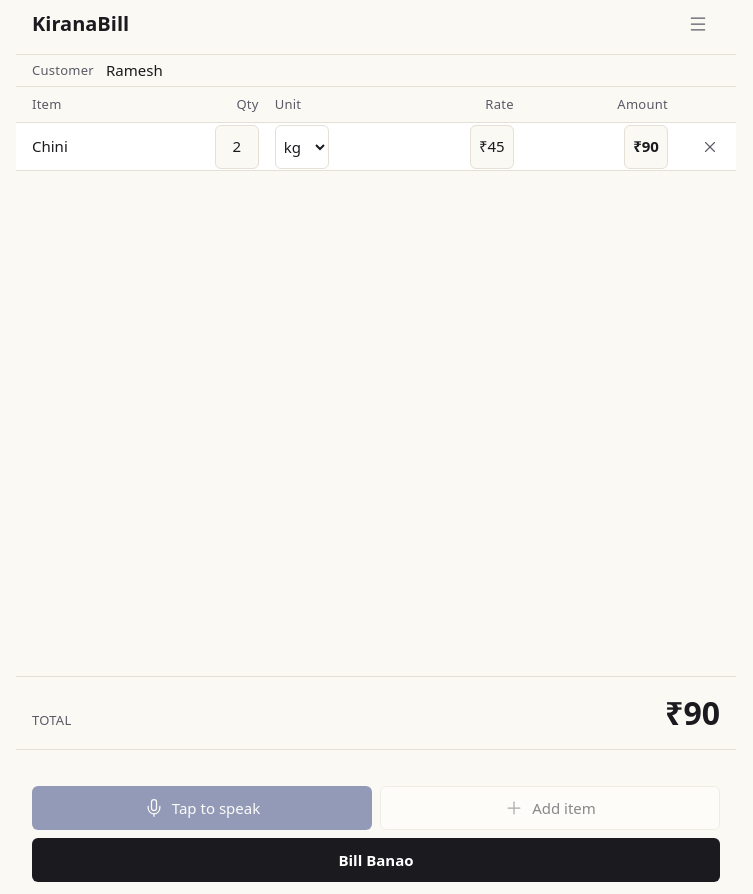
it: KB-309 - four buttons on the saved screen (D58, the legacy behaviour) › Image, PDF, WhatsApp, SMS; the PNG and PDF rendered once, when the receipt is shown
Click the button "Bill Banao" at (376, 860), box left=32, top=838, right=720, bottom=882
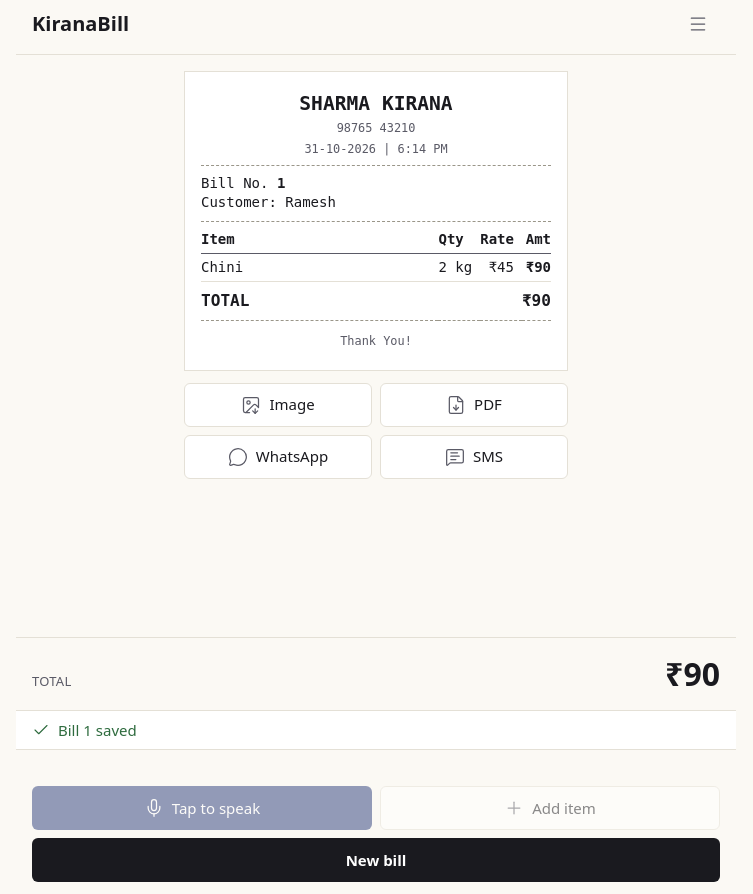
Expected: the element named "Receipt" is shown, left=184, top=71, right=568, bottom=371
Expected: the button "Image" is shown, left=184, top=383, right=372, bottom=427
Expected: the button "PDF" is shown, left=380, top=383, right=568, bottom=427
